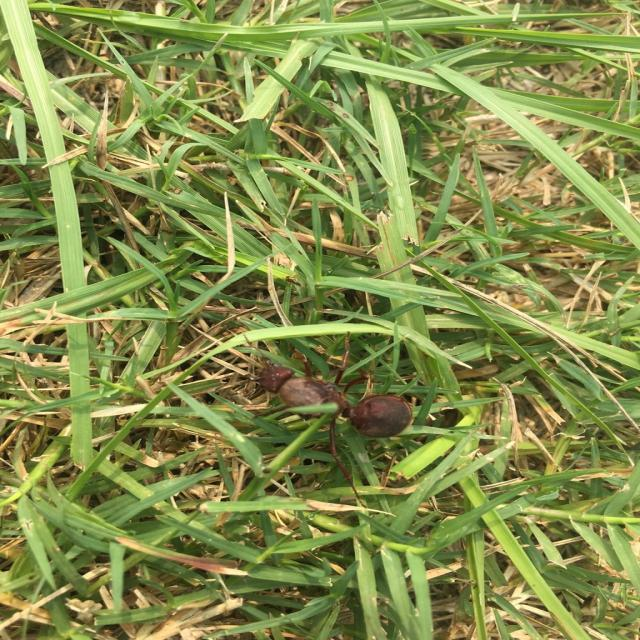Alive-Female-Dealate: (215, 330, 418, 509)
